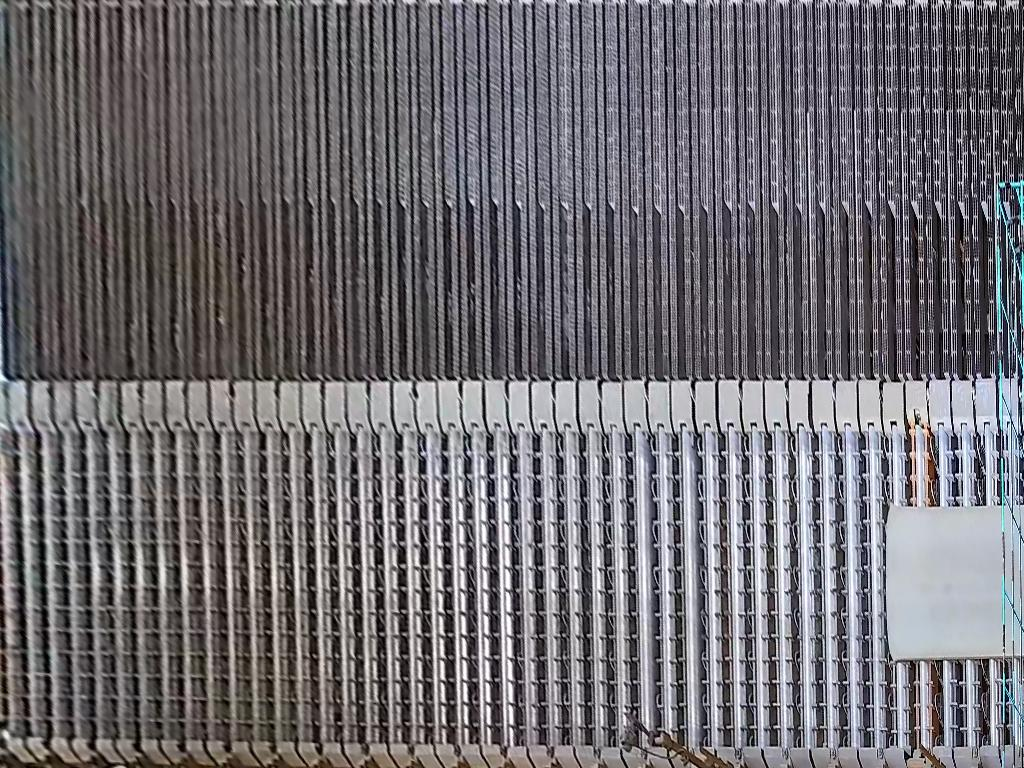steel: (884, 505, 1024, 662)
